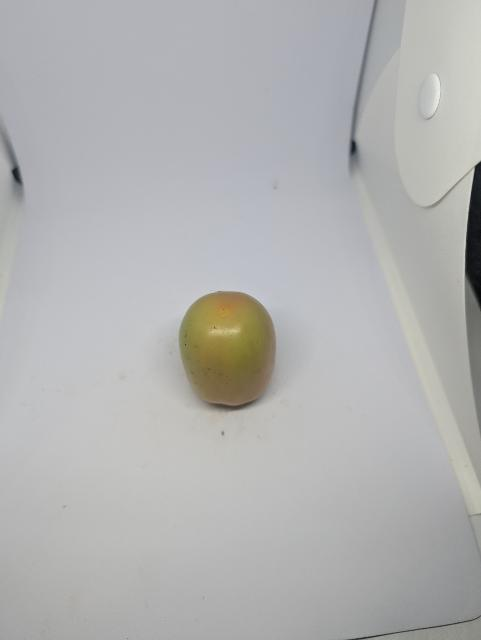breaker: (179, 290, 279, 409)
